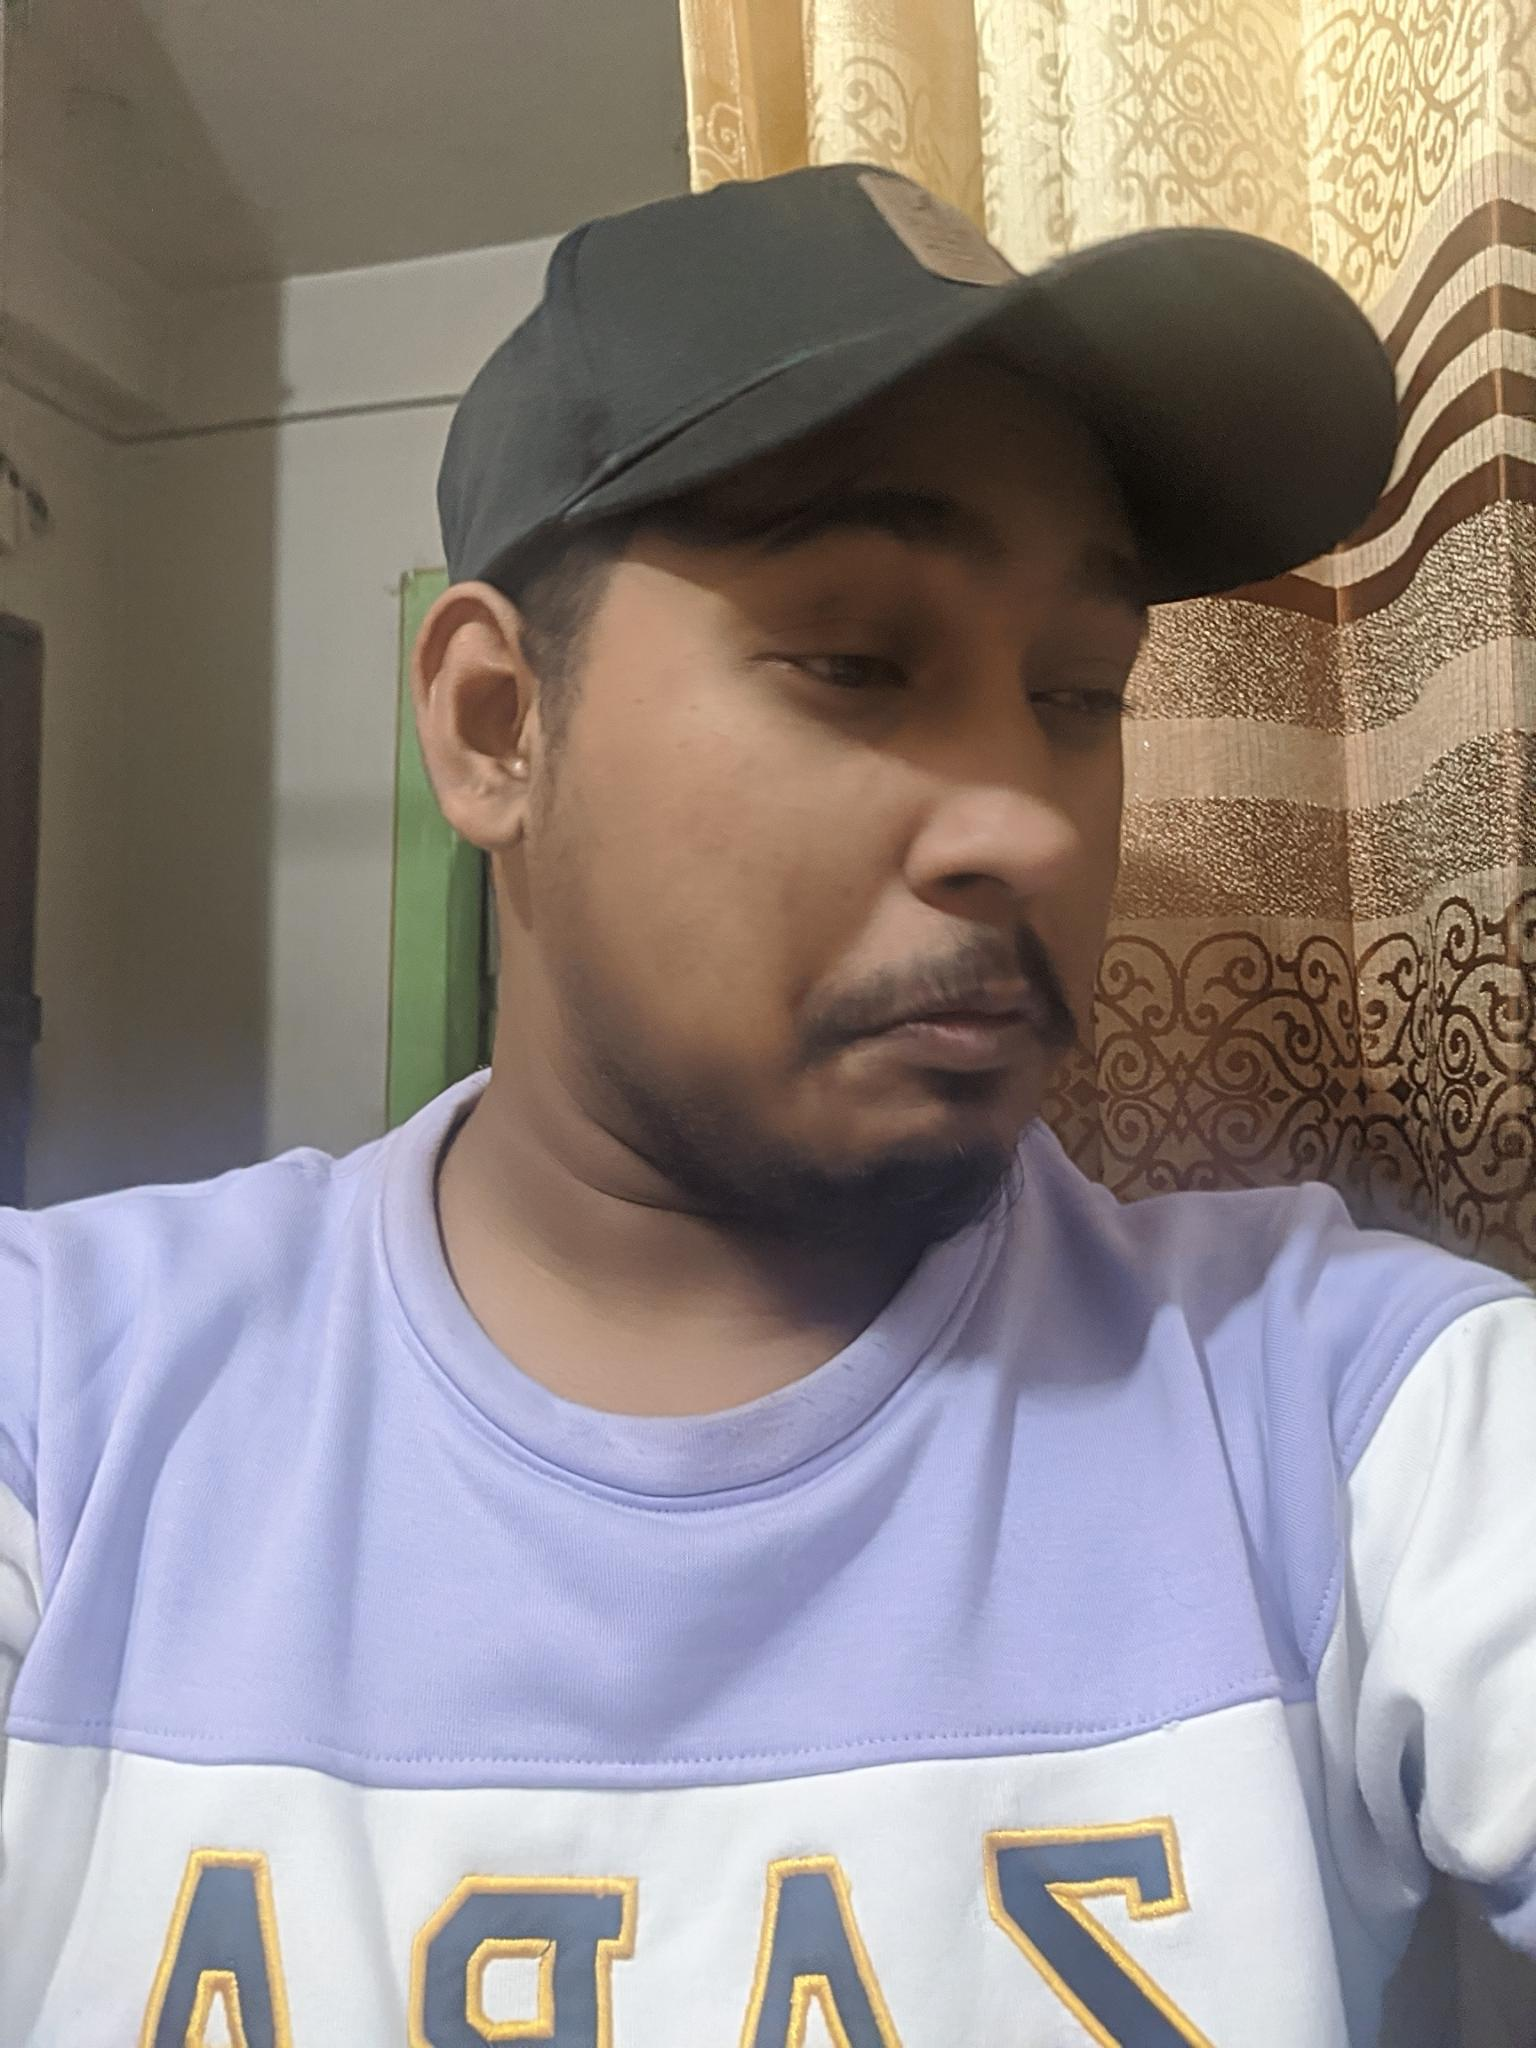Disgust: (684, 442, 1197, 1190)
